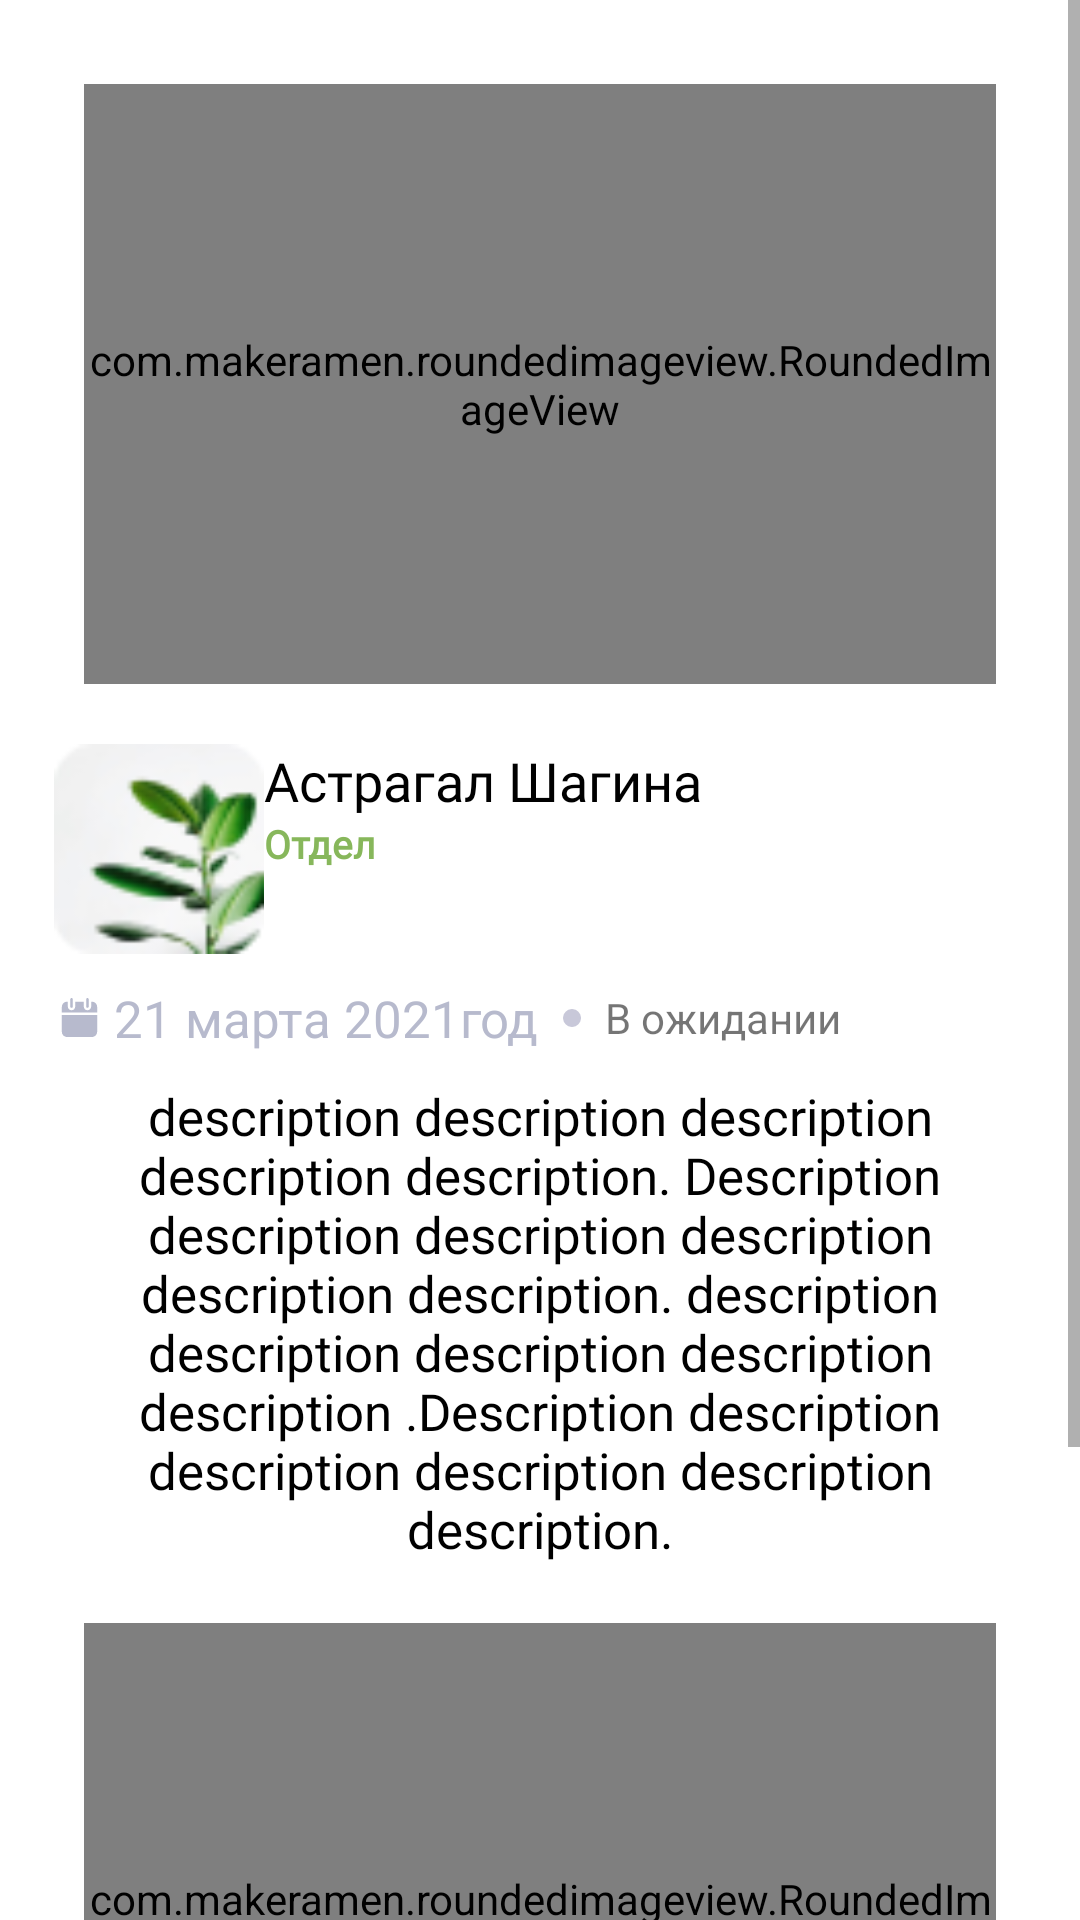

Icon bounding boxes for this 1080 x 1920 phone screenshot, format [x1,y1,x2,y2]:
calendar: [62,998,97,1037]
